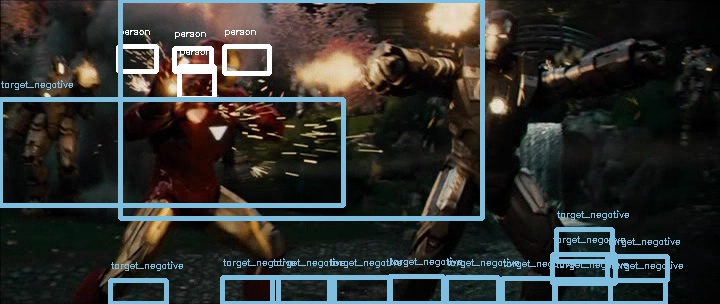person: (192, 35, 240, 99), (191, 35, 239, 99), (193, 35, 241, 99), (192, 34, 240, 98), (192, 36, 240, 100)
target_negative: (62, 15, 257, 270), (131, 189, 280, 289), (508, 31, 601, 189), (155, 195, 285, 269), (126, 14, 291, 51), (33, 124, 635, 133)
